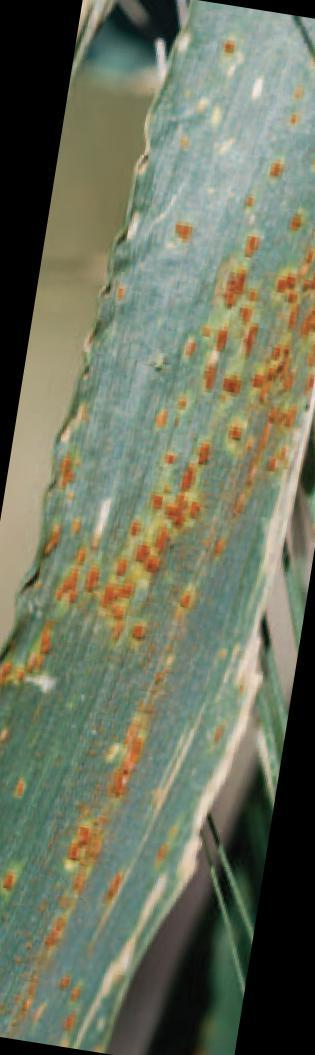Corn: (10, 462, 259, 886), (81, 138, 315, 532)
